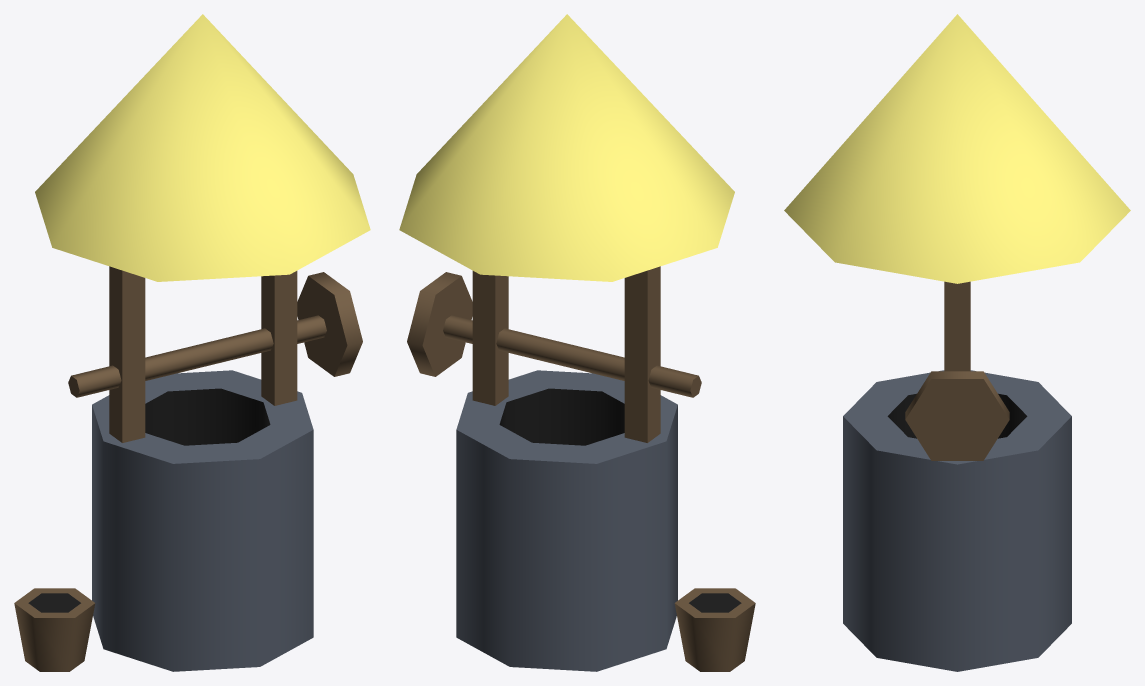
The model's file is Well.fbx.
3 views of the same model, side by side, from view 1: azimuth 30°, elevation 25°; view 2: azimuth 150°, elevation 25°; view 3: azimuth 270°, elevation 25° (orthographic).
Parts seen in each view (by area): view 1: Well; view 2: Well; view 3: Well.
Boxes of the visible parts, x1,y1,x2,y2 form: Well: (14, 14, 370, 671); Well: (399, 14, 755, 671); Well: (784, 14, 1130, 671).
Bounding box in the file's own units: 246 × 436 × 225.
